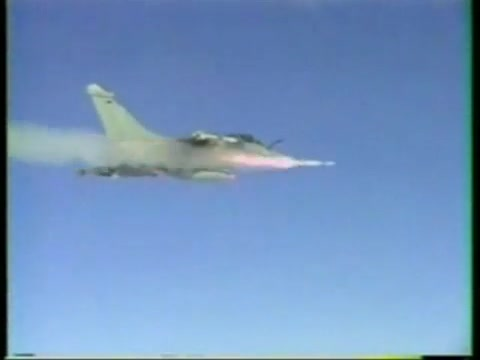aeroplane: (78, 85, 338, 180)
